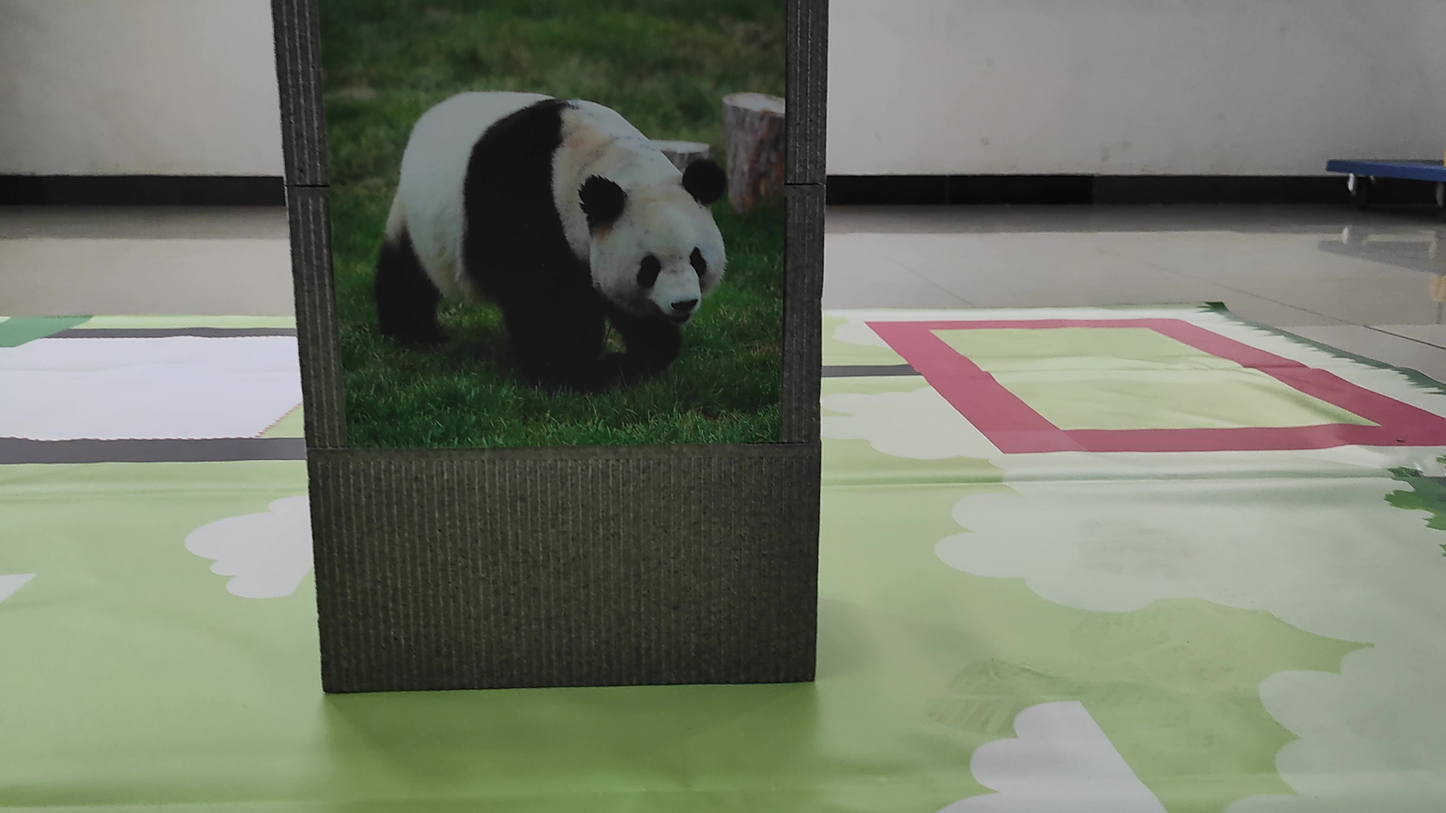panda: (329, 54, 736, 384)
